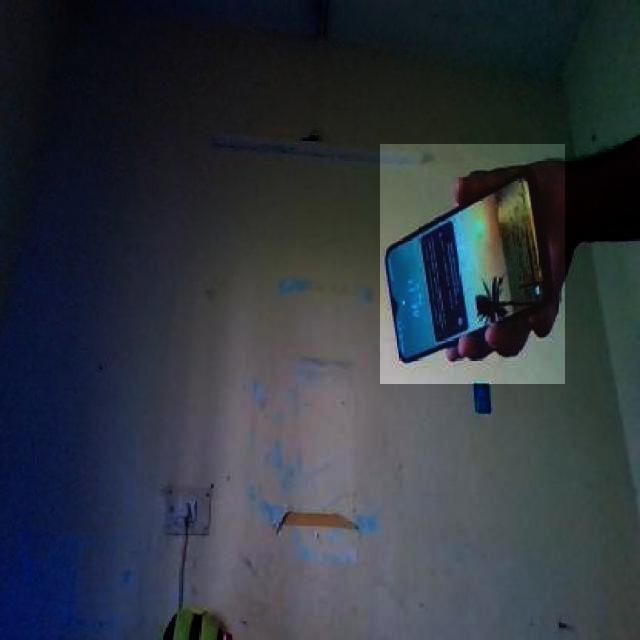mobile: (380, 144, 565, 384)
